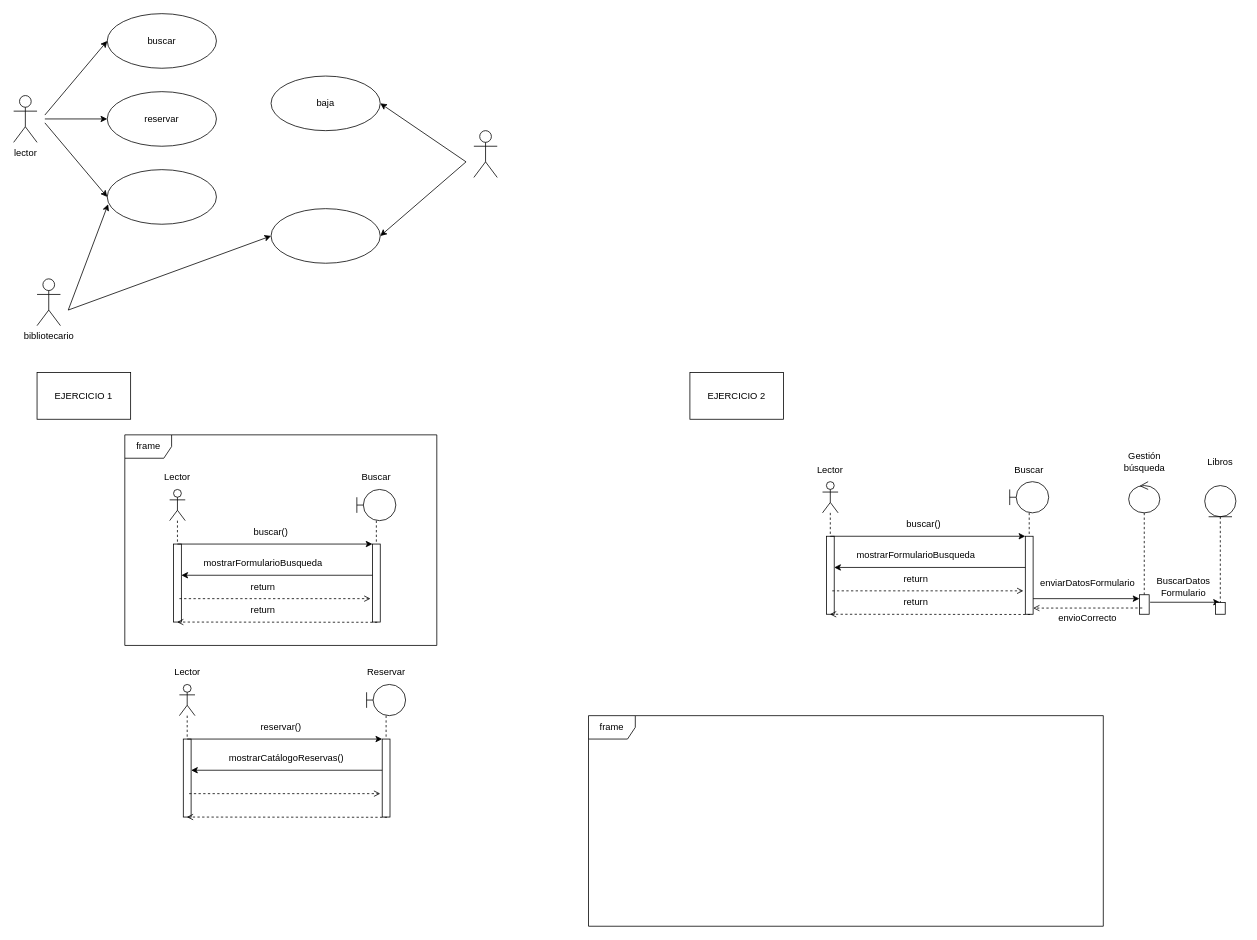
Some shapes in this 1257 by 940 pixel diagram are drawn without their labels. The shapes that lost their labels are listed below. From the top down, each one's box as (x1, y1, x2, y2) in pixels, then its label:
(473, 130, 497, 177): administrativo
(106, 169, 216, 224): anular
(270, 208, 380, 263): insertar
